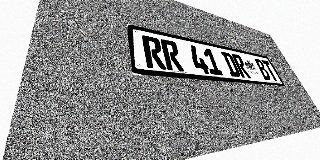1: (201, 47, 223, 75)
4: (187, 44, 210, 74)
B: (253, 58, 272, 80)
D: (221, 51, 242, 77)
R: (141, 35, 167, 70), (160, 39, 184, 71), (231, 53, 251, 78)
T: (261, 60, 279, 81)
